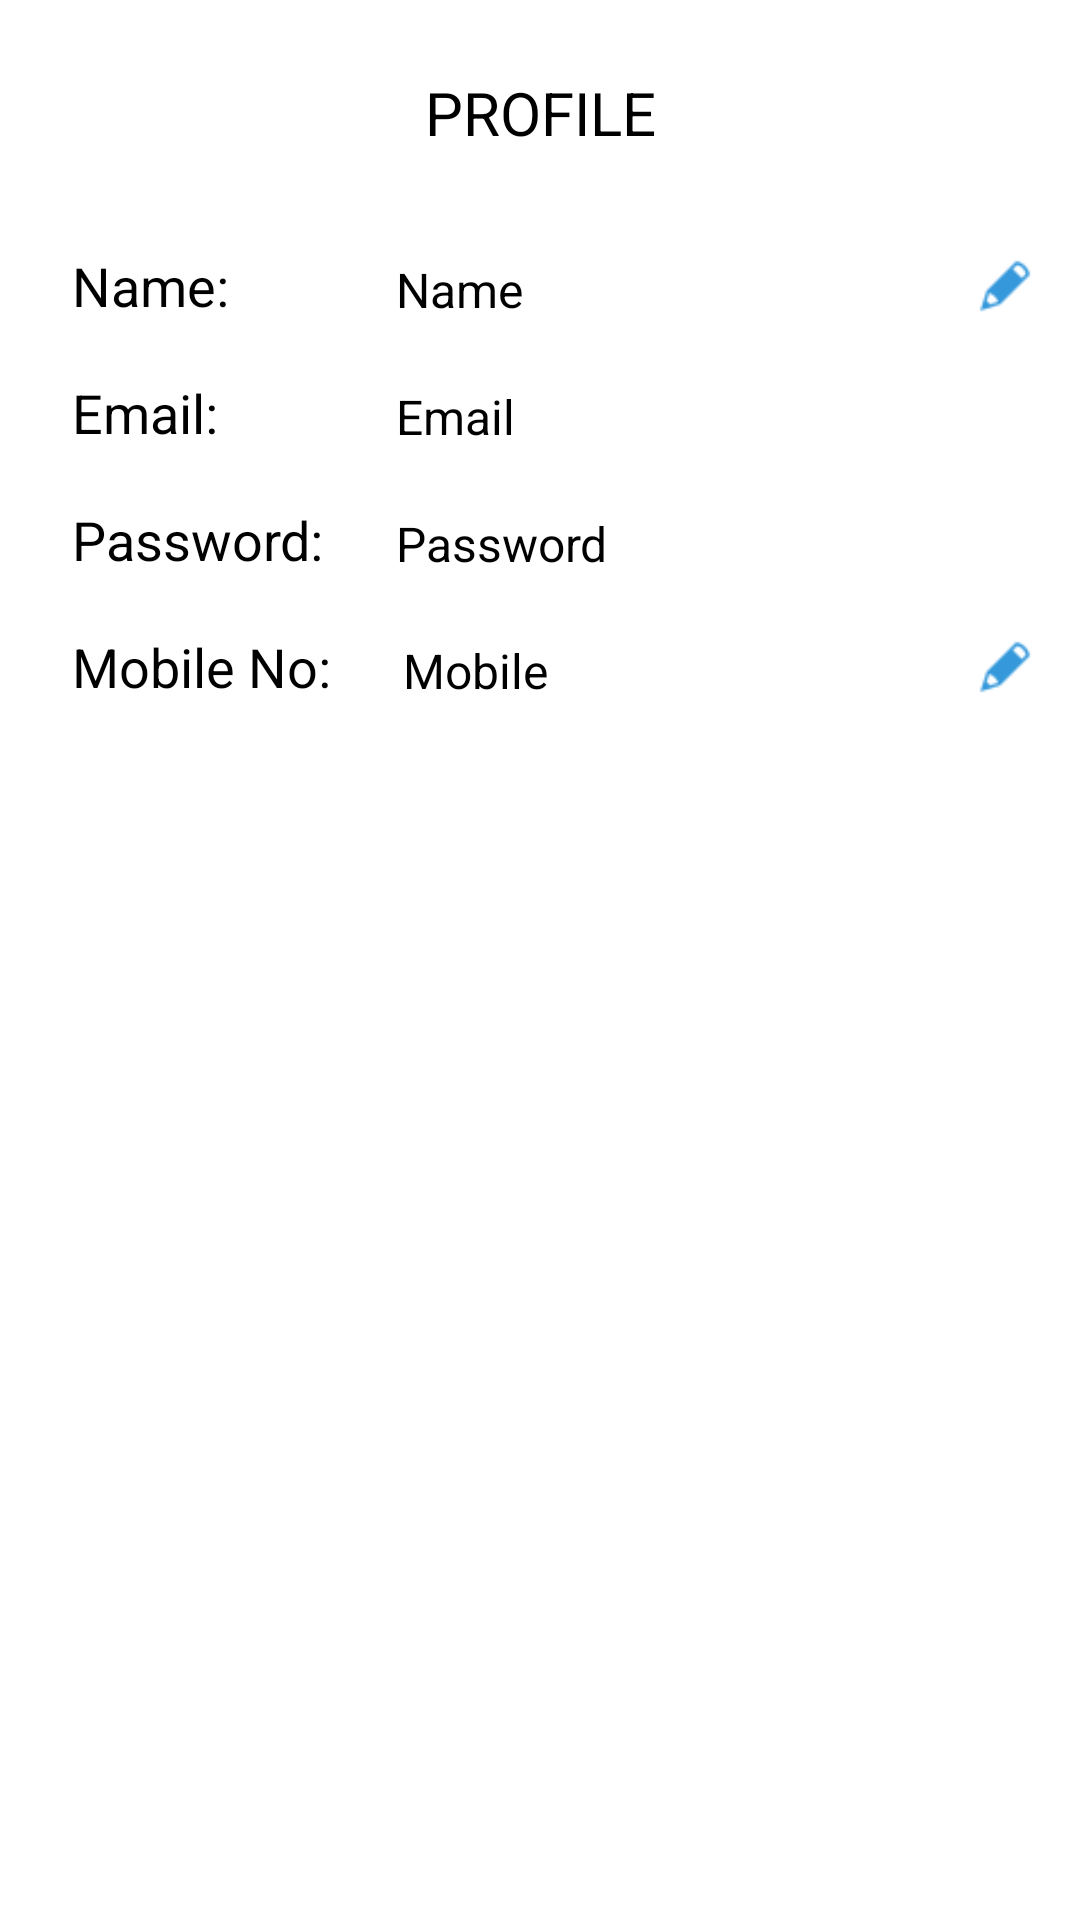

Screen size 1080 x 1920. Icon name, then its center in pixels as point (x, y):
edit: point (1005, 285), point (1005, 666)
